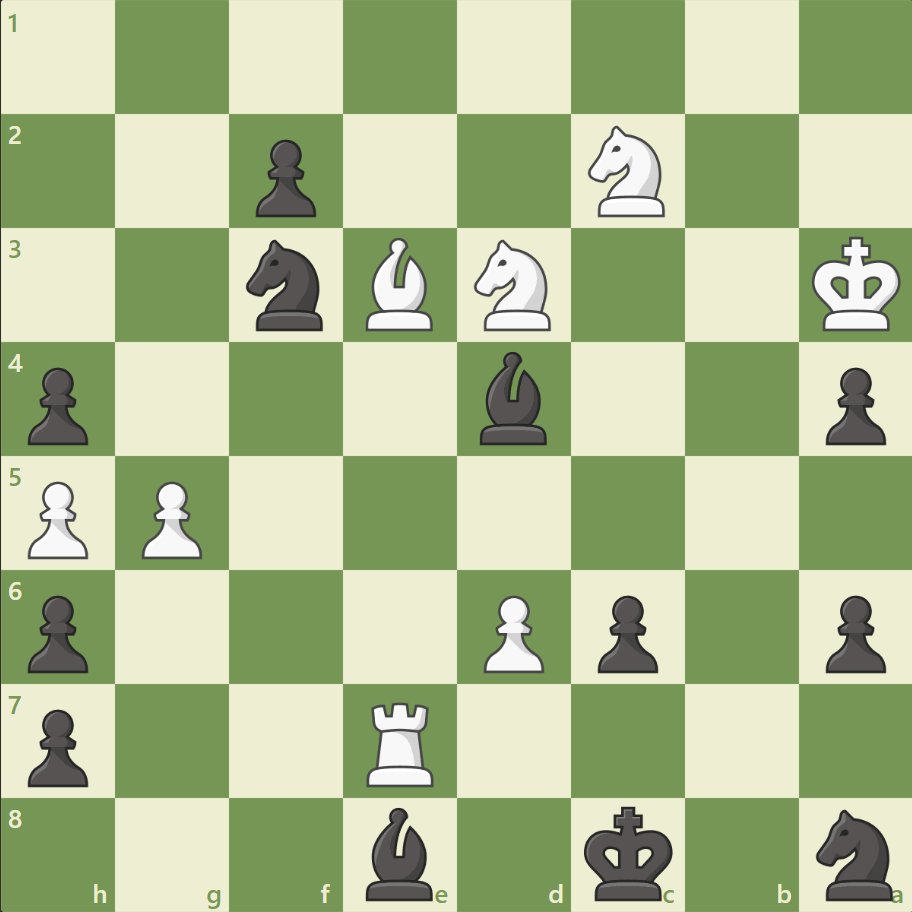B: (358, 233, 442, 336)
K: (806, 231, 906, 339)
N: (465, 234, 562, 337), (579, 121, 676, 223)
P: (474, 586, 549, 677), (133, 473, 208, 564), (20, 473, 95, 564)
R: (360, 693, 442, 790)
b: (358, 801, 442, 904), (471, 347, 555, 449)
k: (579, 798, 679, 906)
n: (238, 234, 335, 337), (806, 802, 903, 904)
p: (20, 700, 95, 791), (20, 586, 95, 677), (20, 359, 95, 450), (247, 132, 322, 223), (815, 586, 889, 677), (588, 586, 662, 677), (815, 359, 889, 450)
